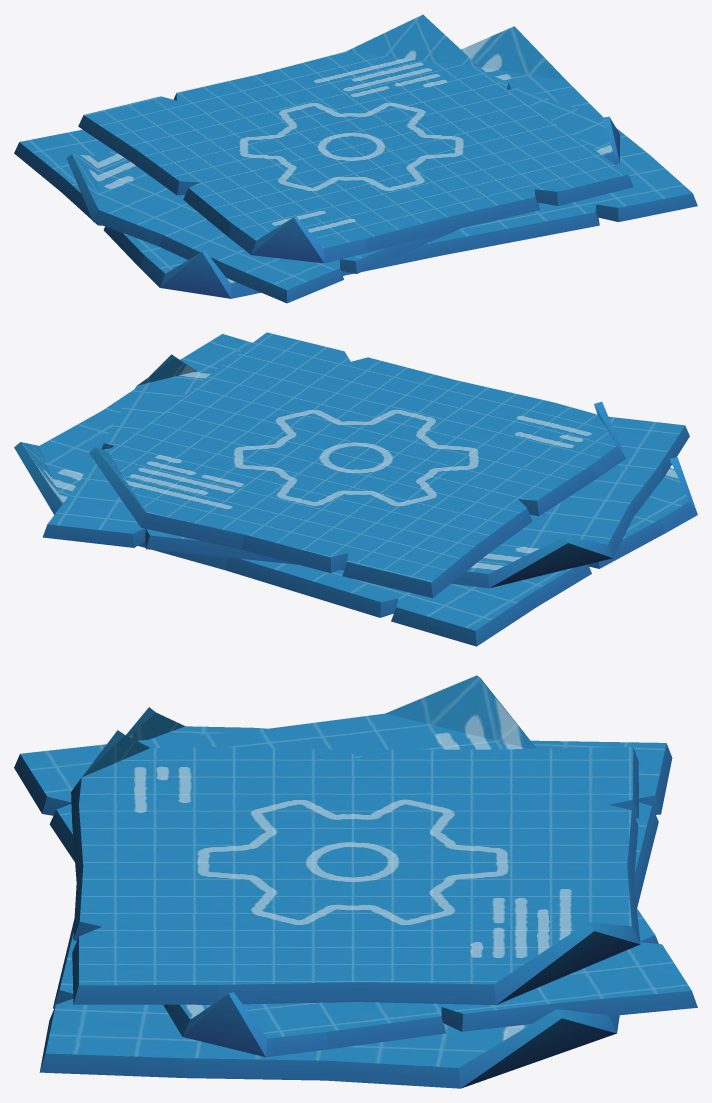
File: blueprint_stacked.gltf
The picture shows the model from 3 angles, top to bottom: view 1: azimuth 30°, elevation 25°; view 2: azimuth 150°, elevation 25°; view 3: azimuth 270°, elevation 25°; orthographic projection. The views are drawn at different scales.
Parts seen in each view (by area): view 1: blueprint_stacked; view 2: blueprint_stacked; view 3: blueprint_stacked.
Boxes of the visible parts, x1,y1,x2,y2 form: blueprint_stacked: (14, 14, 697, 303); blueprint_stacked: (14, 332, 697, 646); blueprint_stacked: (14, 675, 697, 1088).
Size of the model in its own units: 2.12 by 0.2712 by 1.75.
Materials: 2 (2 with a texture image).
